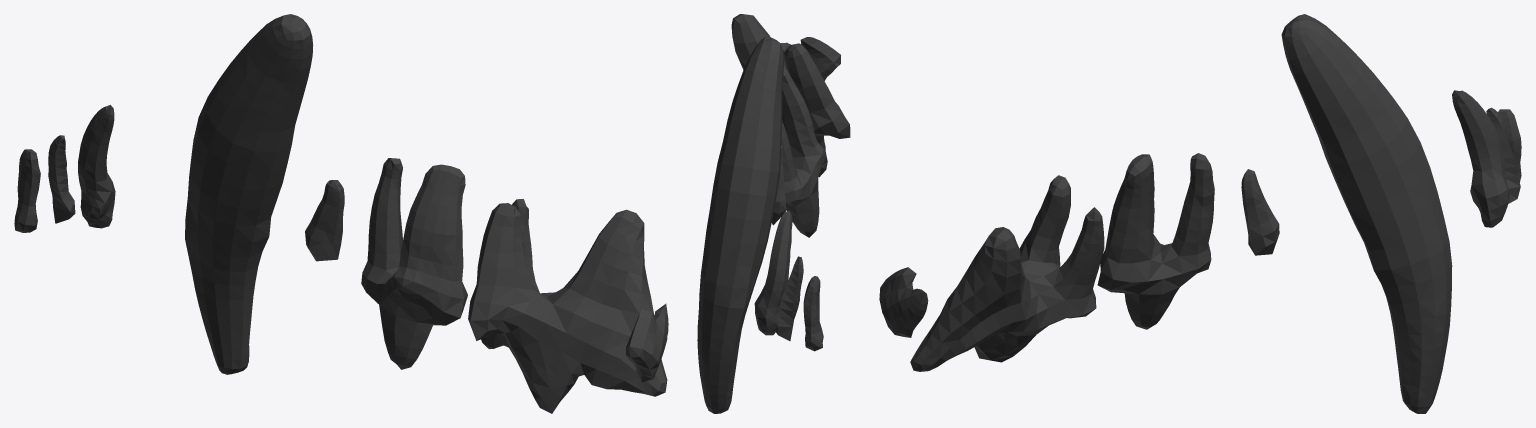
The model's file is Teeth_top.glb.
3 views of the same model, side by side, from view 1: azimuth 30°, elevation 25°; view 2: azimuth 150°, elevation 25°; view 3: azimuth 270°, elevation 25° (orthographic). The views are drawn at different scales.
Visible parts, largest first — view 1: Teeth_top; view 2: Teeth_top; view 3: Teeth_top.
Boxes of the visible parts, left/top/right/bottom form: Teeth_top: left=14, top=14, right=668, bottom=413; Teeth_top: left=697, top=14, right=850, bottom=413; Teeth_top: left=879, top=14, right=1521, bottom=413.
Size of the model in its own units: 0.2046 by 0.215 by 0.3173.
Materials: 1 (1 with a texture image).
